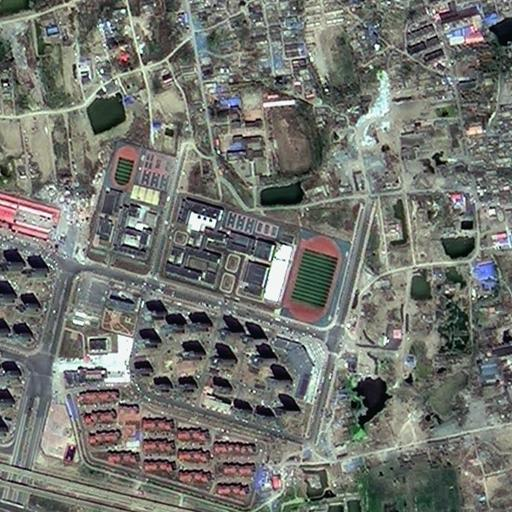school: (160, 183, 356, 333), (83, 144, 174, 277)
